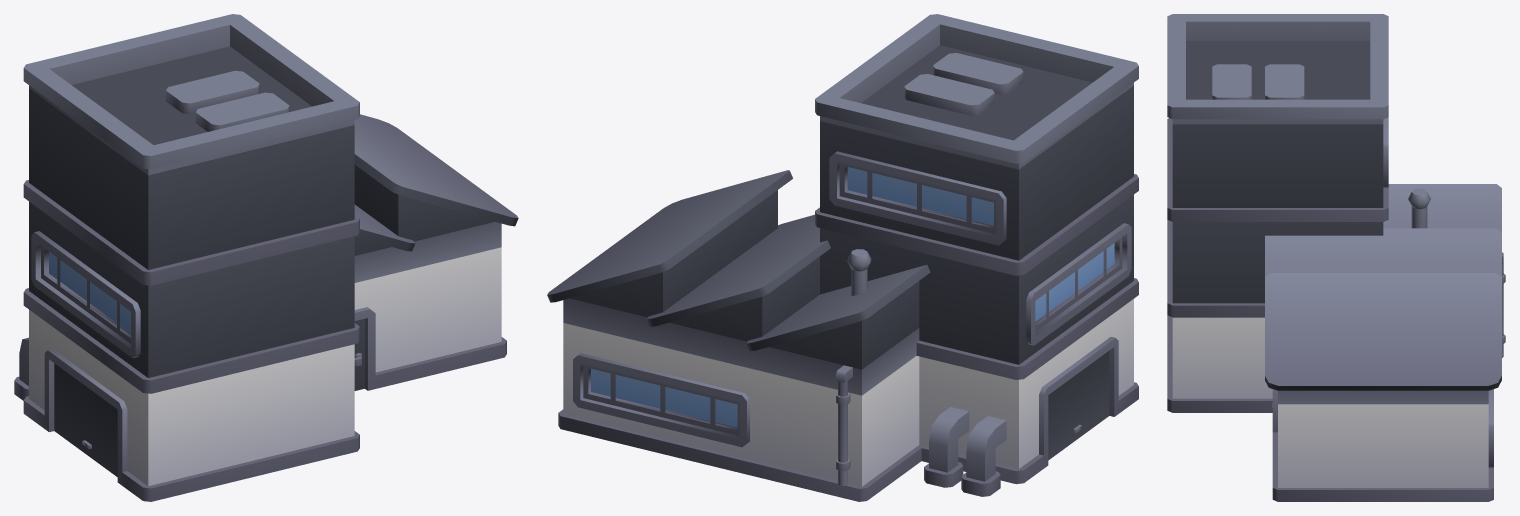
The model's file is warehouse_3.fbx.
3 renders of one model, left to right at view 1: azimuth 30°, elevation 25°; view 2: azimuth 150°, elevation 25°; view 3: azimuth 270°, elevation 25°, orthographic. The views are drawn at different scales.
Visible parts, largest first — view 1: warehouse_3; view 2: warehouse_3; view 3: warehouse_3.
Boxes of the visible parts, x1,y1,x2,y2 form: warehouse_3: (14,14,518,501); warehouse_3: (547,14,1138,501); warehouse_3: (1167,14,1505,501).
Size of the model in its own units: 1.68 by 1.28 by 1.28.
Materials: 2 (2 with a texture image).
